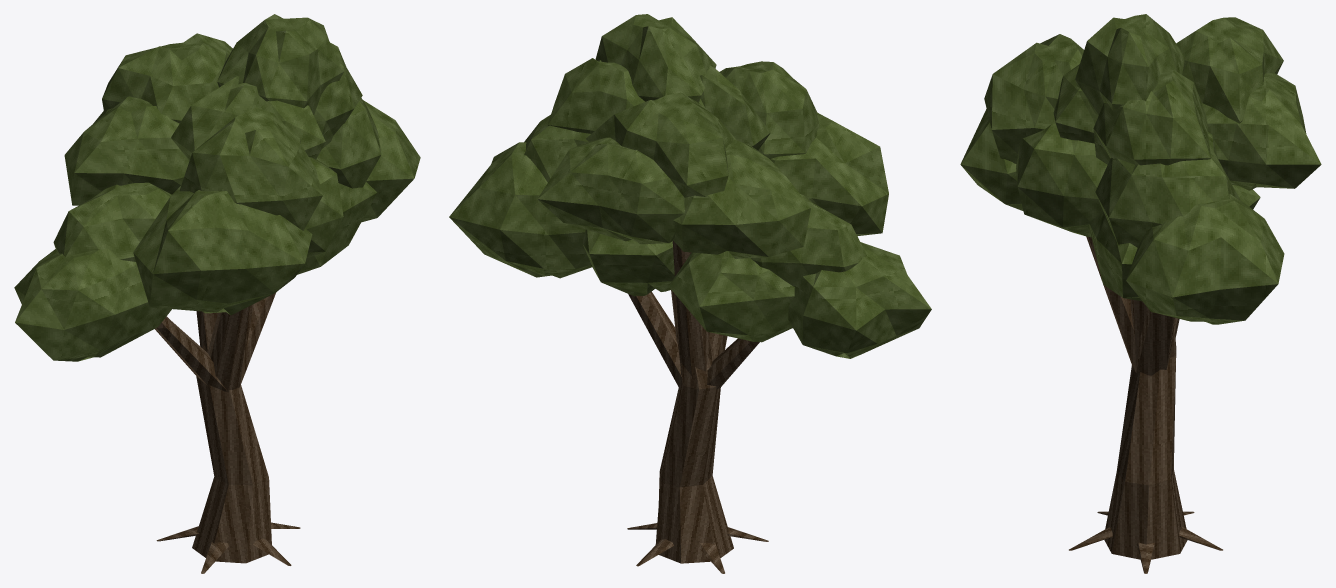
The model's file is oak.glb.
3 views of the same model, side by side, from view 1: azimuth 30°, elevation 25°; view 2: azimuth 150°, elevation 25°; view 3: azimuth 270°, elevation 25° (orthographic). The views are drawn at different scales.
Parts seen in each view (by area): view 1: Oak_AsymmetricCrown, Oak_BranchedTrunk; view 2: Oak_AsymmetricCrown, Oak_BranchedTrunk; view 3: Oak_AsymmetricCrown, Oak_BranchedTrunk.
Part boxes in pixels (<box>): Oak_AsymmetricCrown: <box>14,14,420,361</box>; Oak_BranchedTrunk: <box>155,292,300,573</box>; Oak_AsymmetricCrown: <box>449,14,931,358</box>; Oak_BranchedTrunk: <box>627,240,768,573</box>; Oak_AsymmetricCrown: <box>960,14,1321,324</box>; Oak_BranchedTrunk: <box>1069,236,1222,573</box>.
Size of the model in its own units: 5.13 by 5.93 by 3.55.
Materials: 2 (2 with a texture image).
